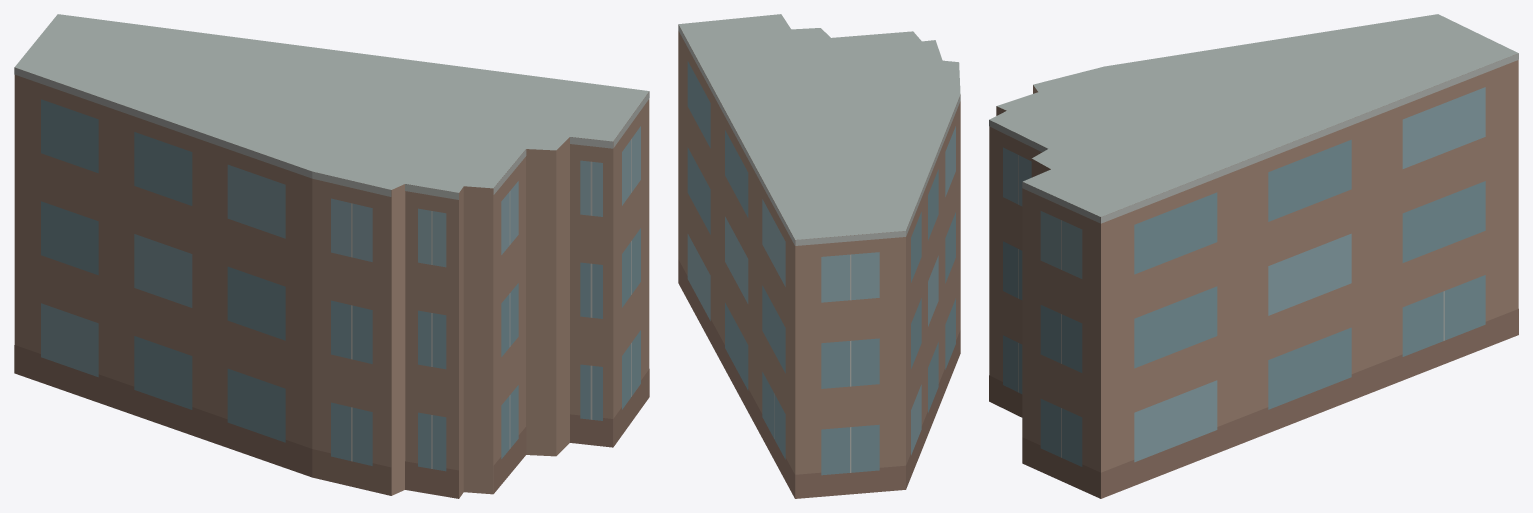
File: survey-upis-32919607.glb
3 renders of one model, left to right at view 1: azimuth 30°, elevation 25°; view 2: azimuth 150°, elevation 25°; view 3: azimuth 270°, elevation 25°, orthographic. The views are drawn at different scales.
Visible parts, largest first — view 1: survey-upis-32919607.tmp; view 2: survey-upis-32919607.tmp; view 3: survey-upis-32919607.tmp.
Part boxes in pixels (x1,y1,x2,y2): survey-upis-32919607.tmp: (14,14,649,498); survey-upis-32919607.tmp: (678,14,960,498); survey-upis-32919607.tmp: (989,14,1518,498).
Size of the model in its own units: 16.09 by 10.4 by 17.72.
